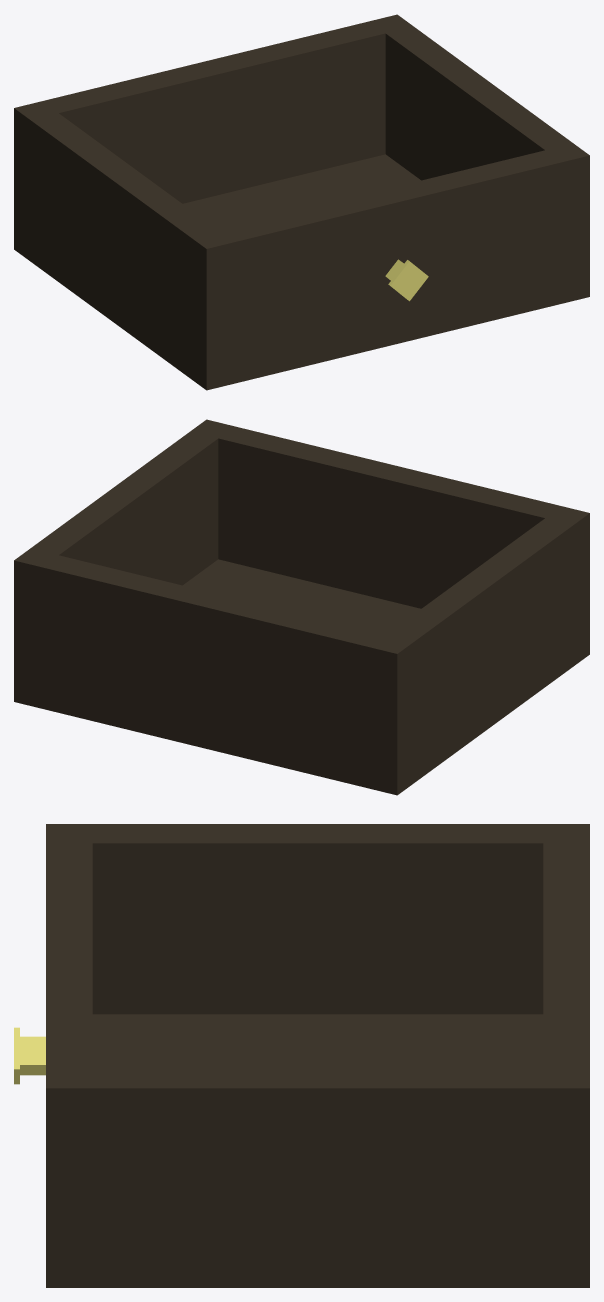
Rendered from Itr_Bed_Bunk2_Drawer2_01.FBX.
The picture shows the model from 3 angles, top to bottom: view 1: azimuth 30°, elevation 25°; view 2: azimuth 150°, elevation 25°; view 3: azimuth 270°, elevation 25°; orthographic projection. The views are drawn at different scales.
Visible parts, largest first — view 1: Itr_Bed_Bunk2_Drawer2_01; view 2: Itr_Bed_Bunk2_Drawer2_01; view 3: Itr_Bed_Bunk2_Drawer2_01.
Boxes of the visible parts, <box> form: Itr_Bed_Bunk2_Drawer2_01: <box>14,14,589,390</box>; Itr_Bed_Bunk2_Drawer2_01: <box>14,419,589,795</box>; Itr_Bed_Bunk2_Drawer2_01: <box>14,824,589,1287</box>.
Bounding box in the file's own units: 45.13 × 15.91 × 41.58.
